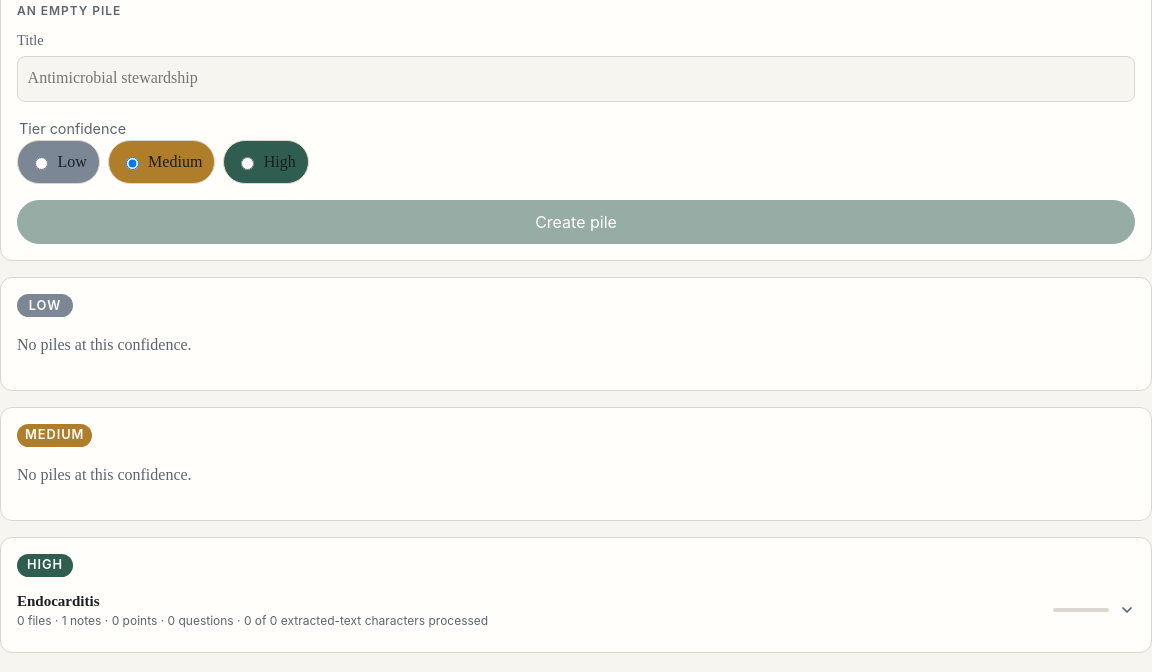
Test: the body draft › is kept locally, and the words survive a failed save
Click the button "Endocarditis" at coordinates (58, 601), box [17, 585, 1135, 636]
(page scrolled)
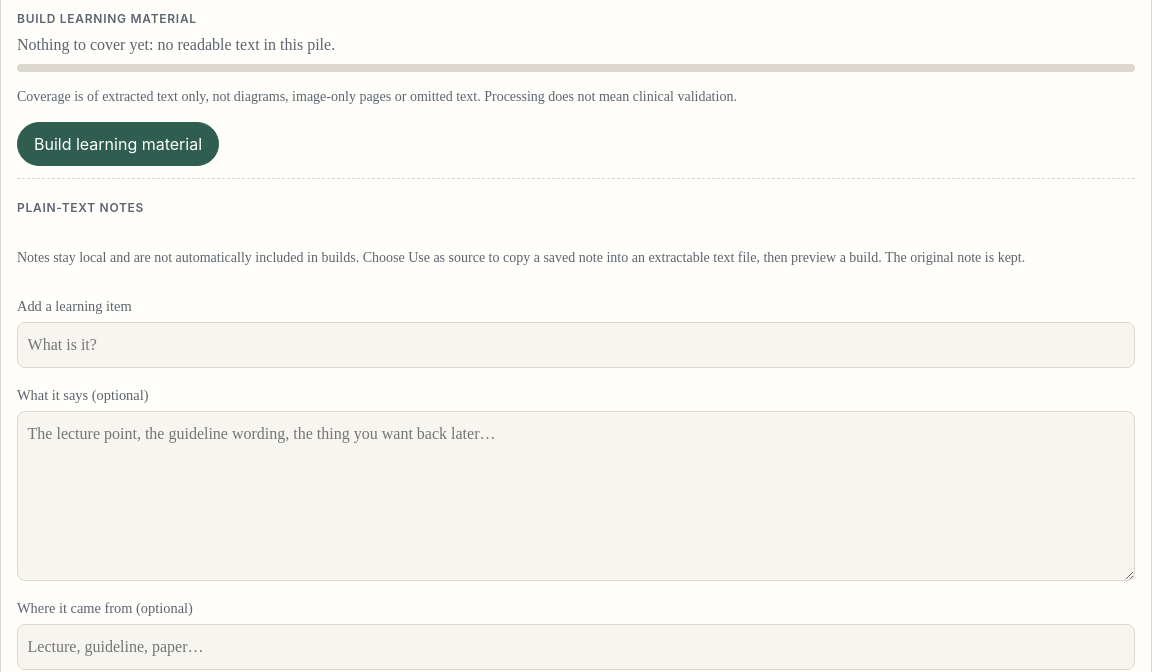
Type "Duke criteria" into the field labelled "Add a learning item" at coordinates (576, 345), box [17, 322, 1135, 368]
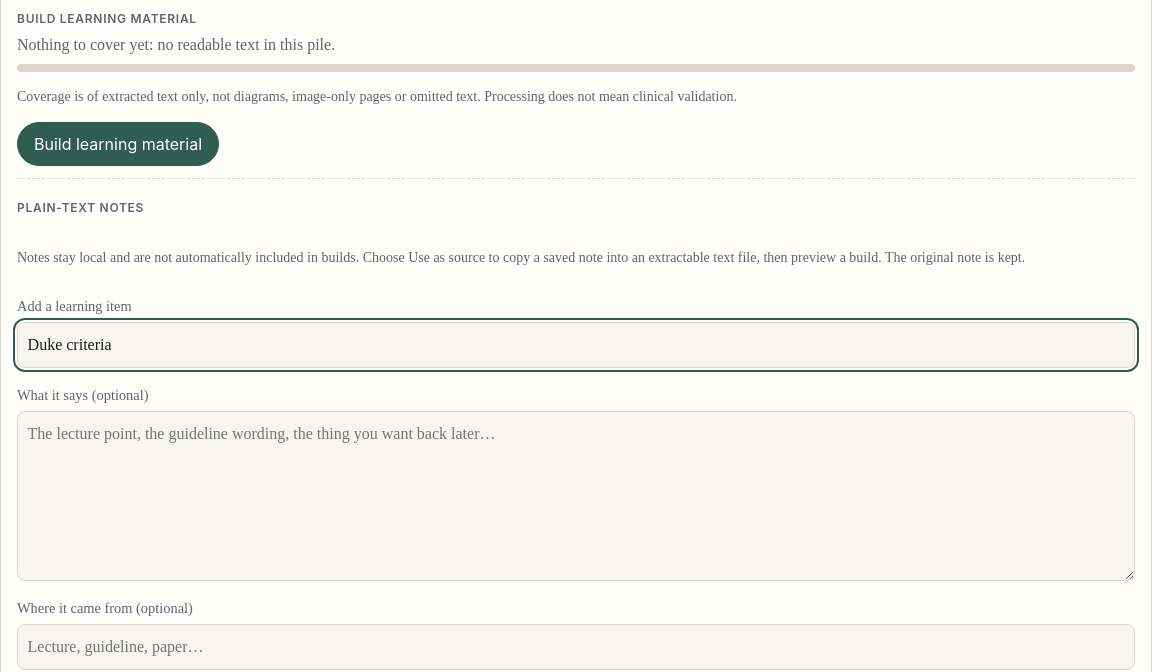
Type "Two major criteria." into the text box labelled "What it says (optional)" at coordinates (576, 496), box [17, 411, 1135, 581]
(page scrolled)
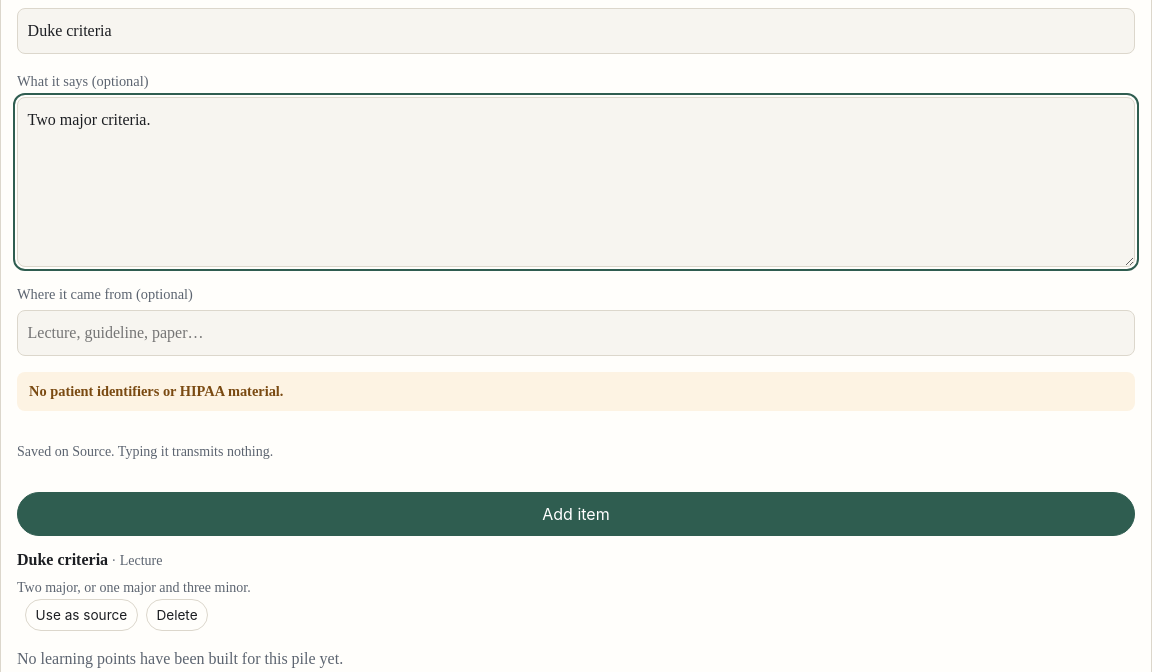
Click the button "Add item" at coordinates (576, 514), box [17, 492, 1135, 536]
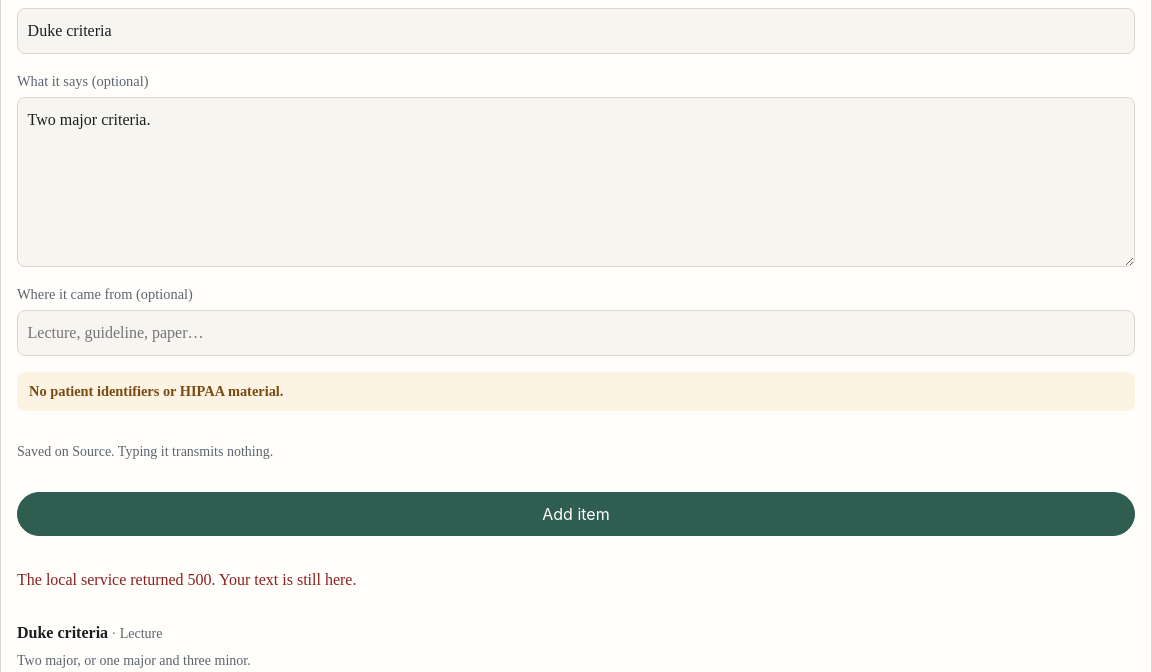
expect the message shows "Your text is still here": met, box [216, 571, 356, 588]
